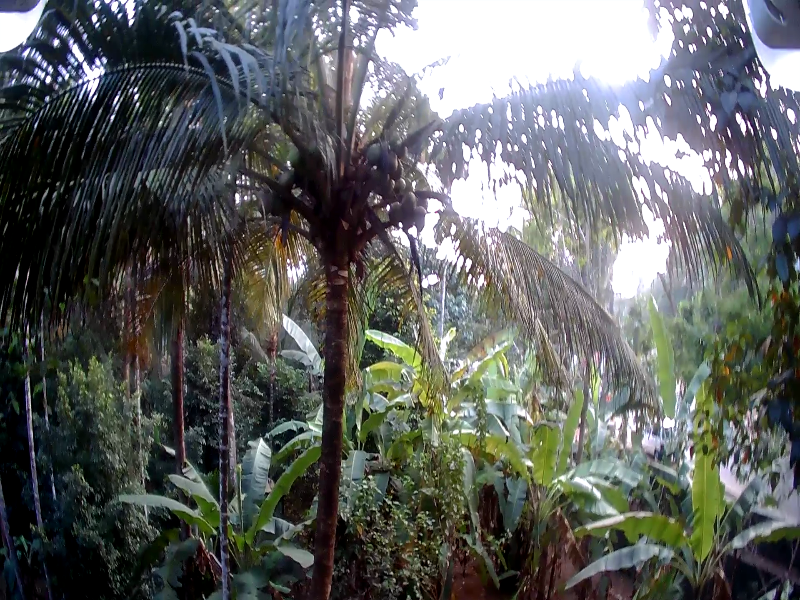coconut: (368, 142, 384, 167), (388, 205, 405, 227), (275, 165, 291, 188), (384, 154, 400, 176), (257, 186, 270, 213), (413, 205, 427, 228), (394, 173, 405, 192), (402, 193, 413, 210), (381, 180, 393, 192)
